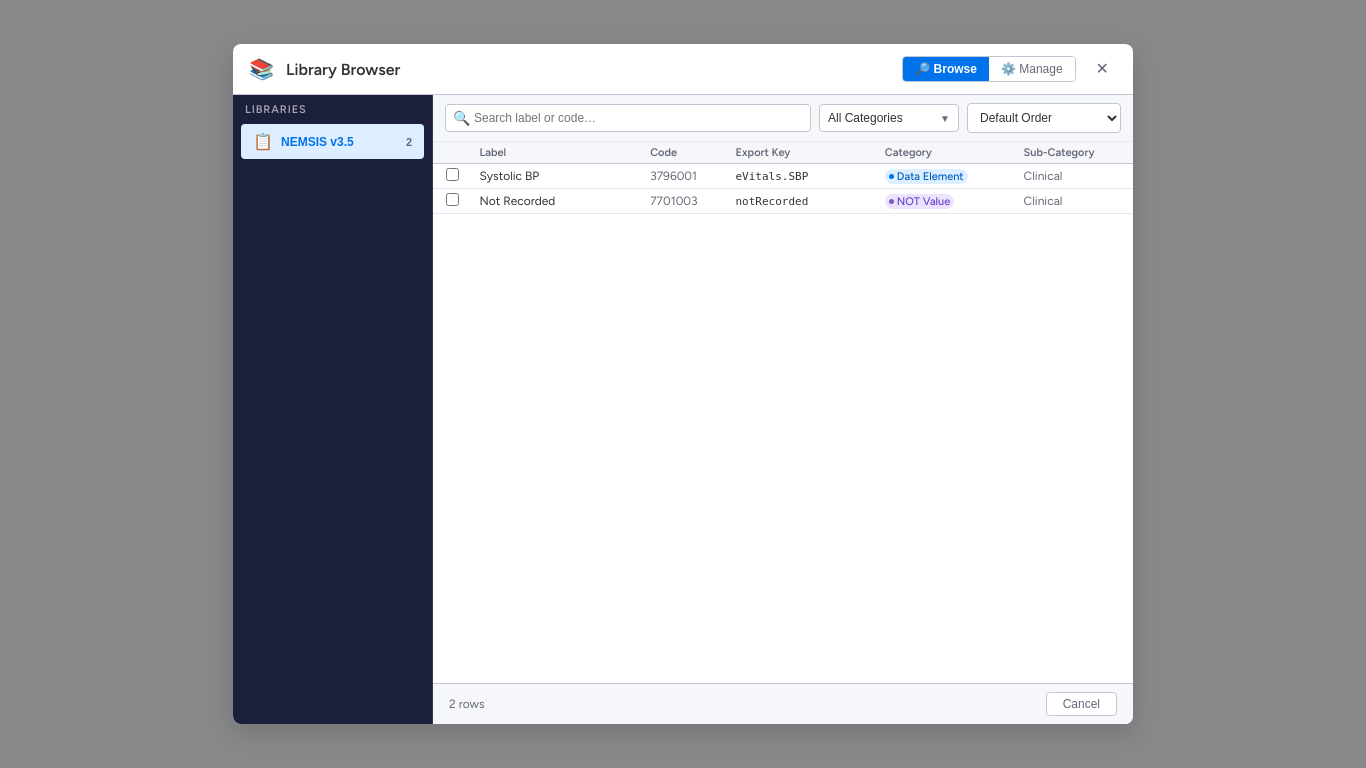
Scenario: LibraryBrowser › should switch to manage mode when Manage button is clicked
Click the button "⚙️ Manage" at (1032, 69), box [989,57,1075,81]
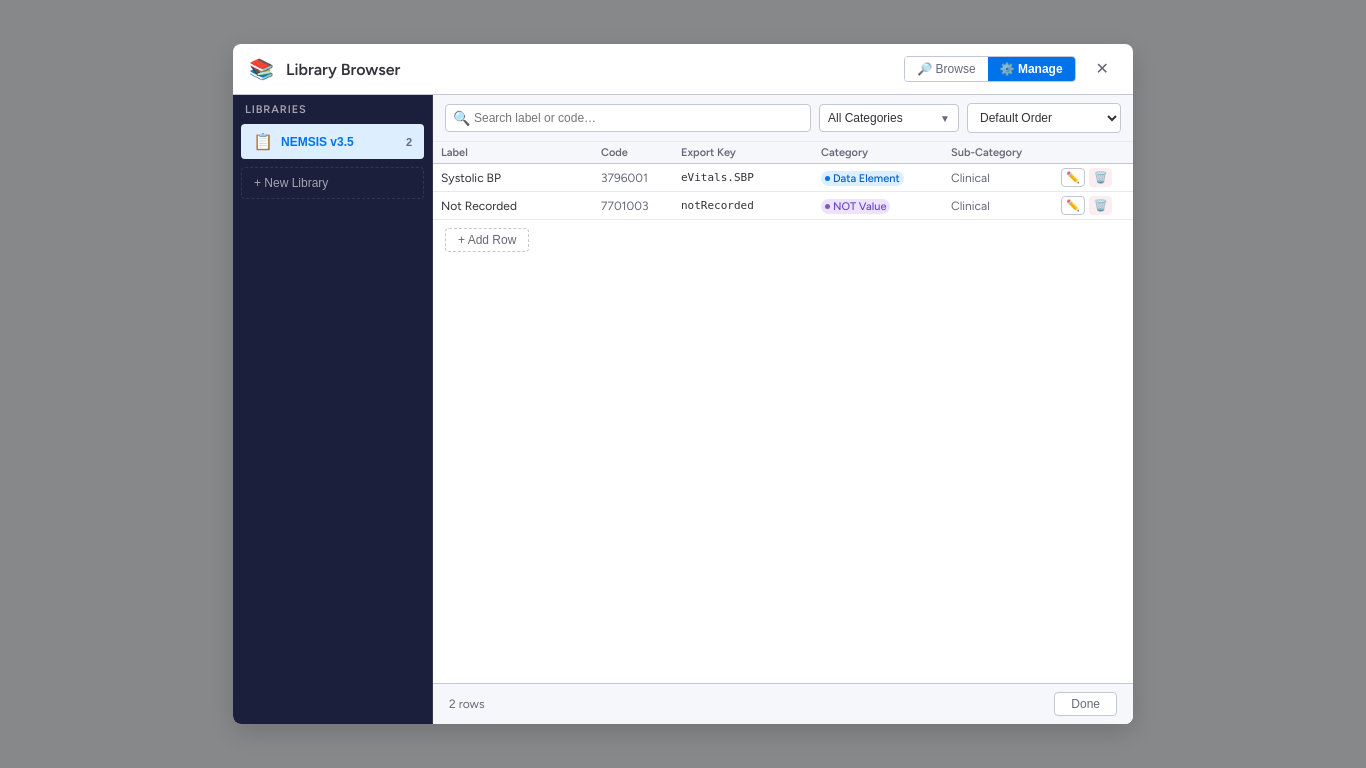
Expected: the button "+ Add Row" is shown, [445,228,529,252]
